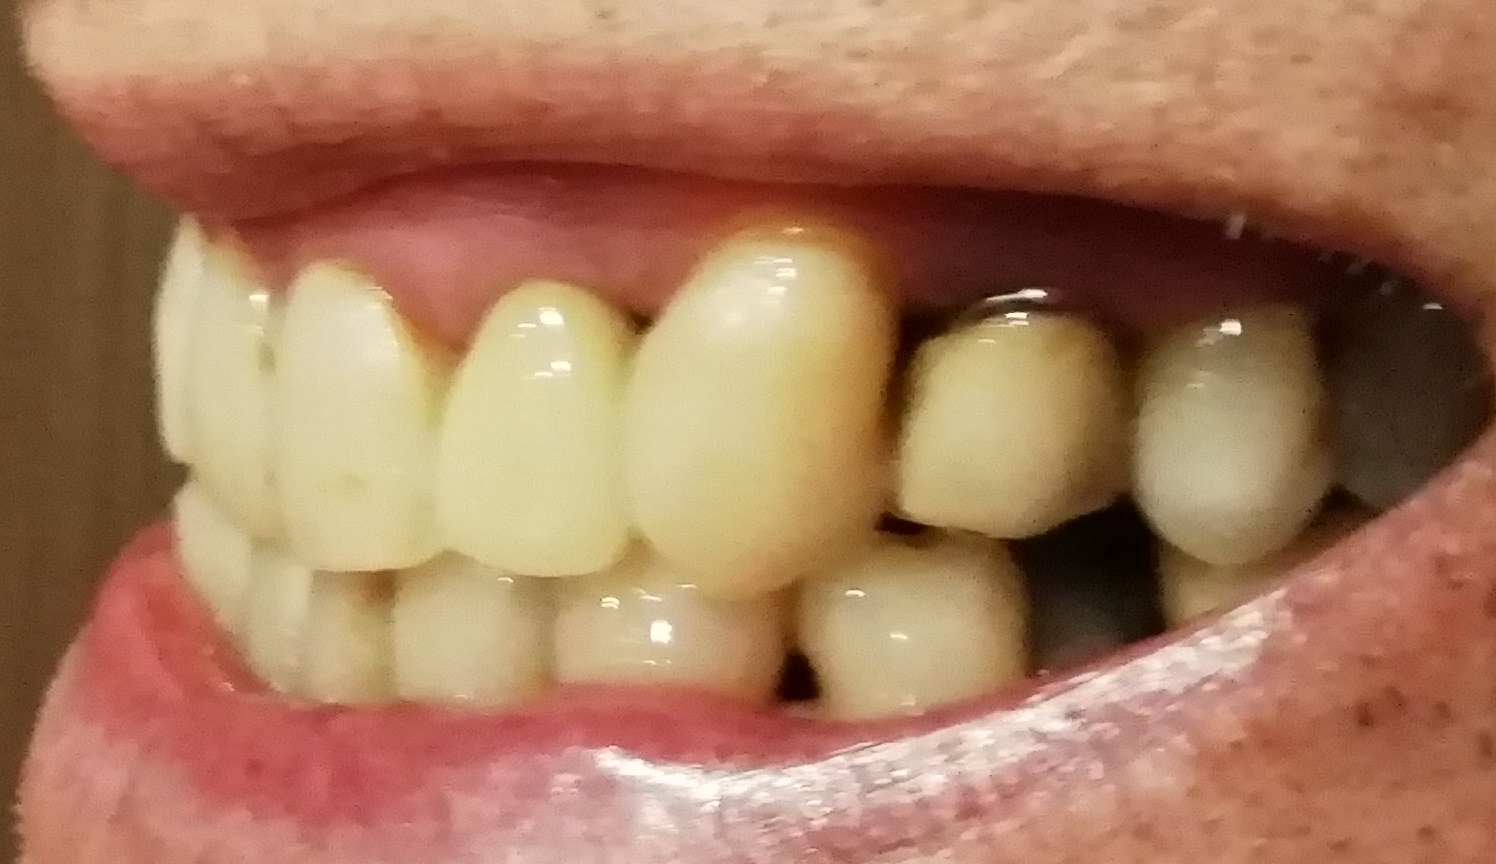boca: (156, 199, 1436, 710)
